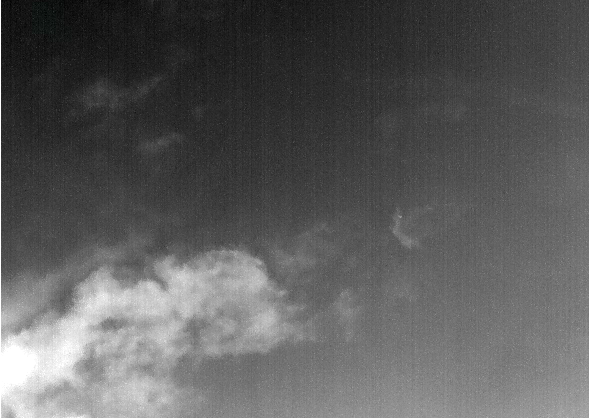dim target: (398, 214, 403, 219)
